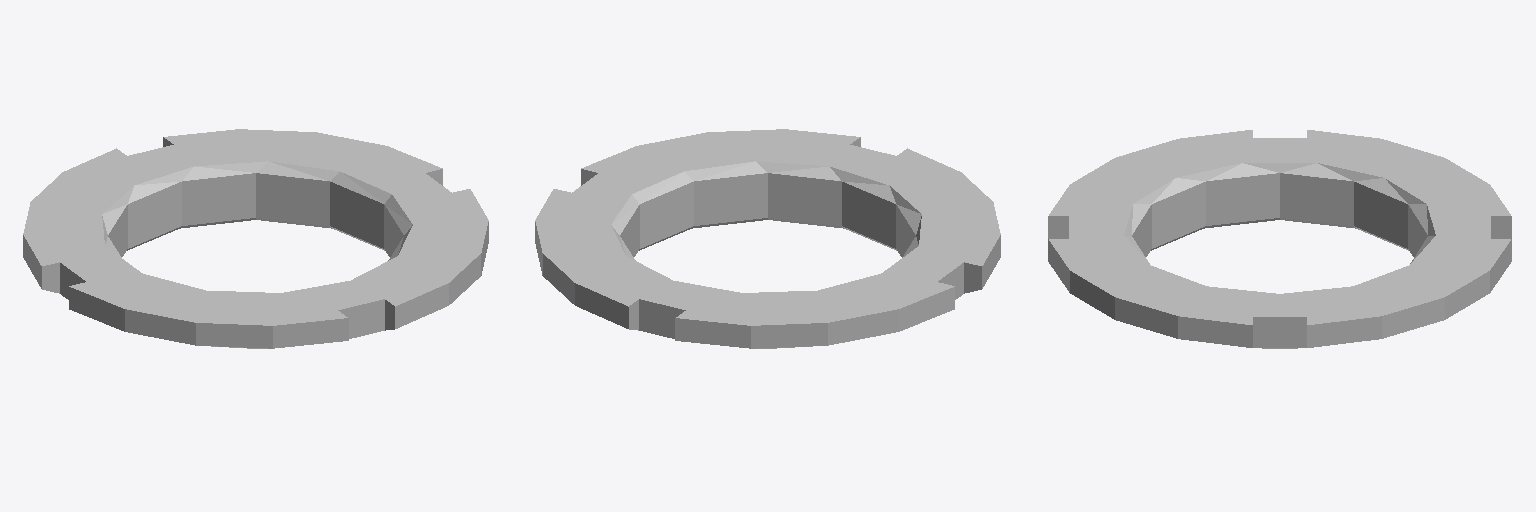
File: 75. Гайка промежуточного вала.obj
3 renders of one model, left to right at view 1: azimuth 30°, elevation 25°; view 2: azimuth 150°, elevation 25°; view 3: azimuth 270°, elevation 25°, orthographic.
Parts seen in each view (by area): view 1: Твердое тело1; view 2: Твердое тело1; view 3: Твердое тело1.
Part boxes in pixels (bbox=[...]): Твердое тело1: bbox=[23, 129, 488, 348]; Твердое тело1: bbox=[535, 129, 1000, 348]; Твердое тело1: bbox=[1048, 130, 1511, 348].
Size of the model in its own units: 51.65 by 7 by 51.65.